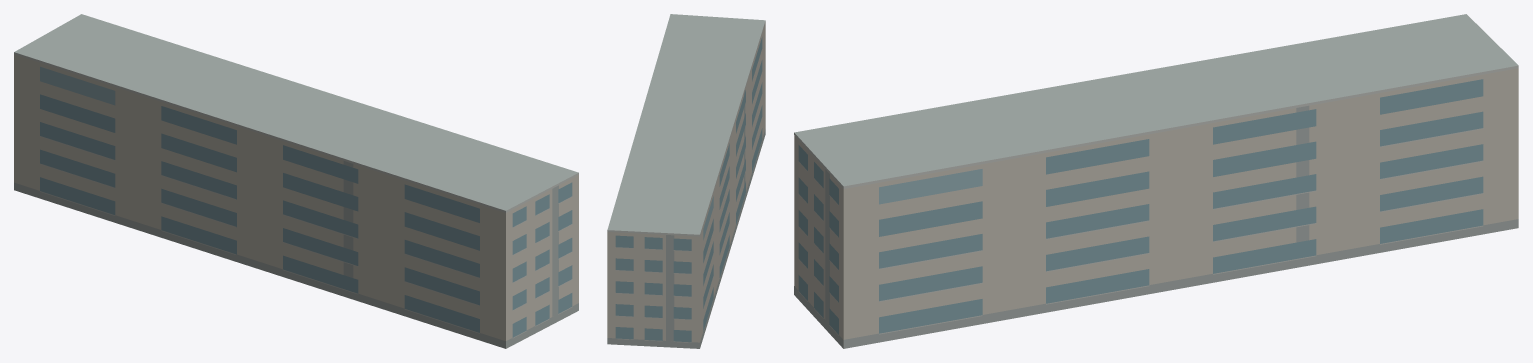
The model's file is residential-d789fea5-2a94-4d3e-bc62-ea6a152a1670.glb.
3 views of the same model, side by side, from view 1: azimuth 30°, elevation 25°; view 2: azimuth 150°, elevation 25°; view 3: azimuth 270°, elevation 25° (orthographic). The views are drawn at different scales.
Visible parts, largest first — view 1: residential-d789fea5-2a94-4d3e-bc62-ea6a152a1670.tmp; view 2: residential-d789fea5-2a94-4d3e-bc62-ea6a152a1670.tmp; view 3: residential-d789fea5-2a94-4d3e-bc62-ea6a152a1670.tmp.
Part boxes in pixels (x1,y1,x2,y2): residential-d789fea5-2a94-4d3e-bc62-ea6a152a1670.tmp: (14,14,578,348); residential-d789fea5-2a94-4d3e-bc62-ea6a152a1670.tmp: (607,14,765,348); residential-d789fea5-2a94-4d3e-bc62-ea6a152a1670.tmp: (794,14,1518,348).
Bounding box in the file's own units: 34.71 × 15.25 × 61.64.
